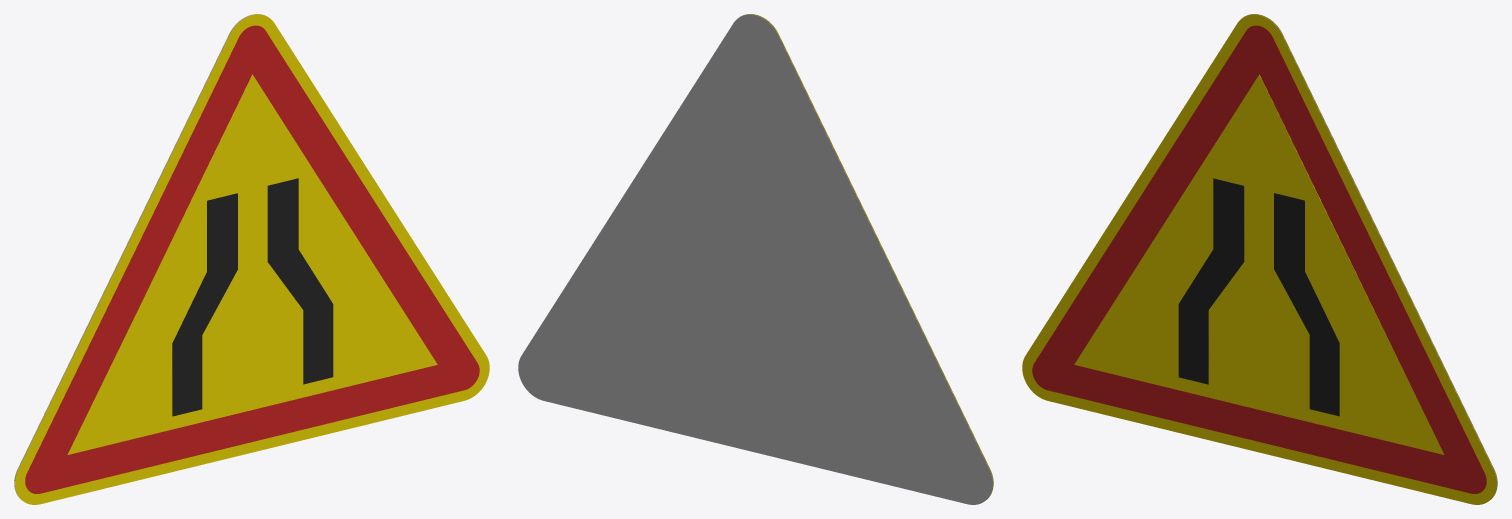
3 renders of one model, left to right at view 1: azimuth 30°, elevation 25°; view 2: azimuth 150°, elevation 25°; view 3: azimuth 330°, elevation 25°, orthographic.
Parts seen in each view (by area): view 1: AK3_p02, AK3_p01, AK3_p00, AK3_p03, AK3_p04, AK3_dos; view 2: AK3_dos, AK3_p00; view 3: AK3_p02, AK3_p01, AK3_p00, AK3_p04, AK3_p03, AK3_dos.
Boxes of the visible parts, left/top/right/bottom form: AK3_p02: left=67, top=74, right=437, bottom=454; AK3_p01: left=25, top=25, right=479, bottom=493; AK3_p00: left=15, top=14, right=489, bottom=504; AK3_p03: left=267, top=178, right=333, bottom=384; AK3_p04: left=172, top=193, right=237, bottom=416; AK3_dos: left=14, top=14, right=267, bottom=499; AK3_dos: left=518, top=14, right=992, bottom=504; AK3_p00: left=740, top=14, right=993, bottom=499; AK3_p02: left=1074, top=74, right=1444, bottom=454; AK3_p01: left=1032, top=25, right=1486, bottom=493; AK3_p00: left=1022, top=14, right=1496, bottom=504; AK3_p04: left=1178, top=178, right=1244, bottom=384; AK3_p03: left=1274, top=193, right=1339, bottom=416; AK3_dos: left=1244, top=14, right=1497, bottom=499.
Size of the model in its own units: 0.7 by 0.6162 by 0.0035.
